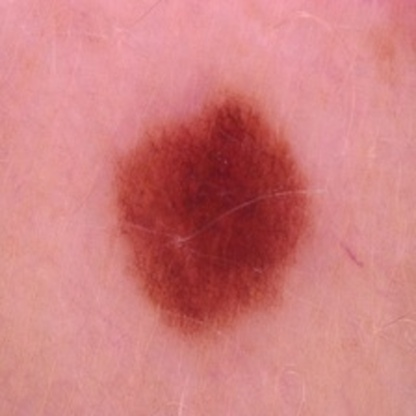benign: (108, 123, 322, 315)
